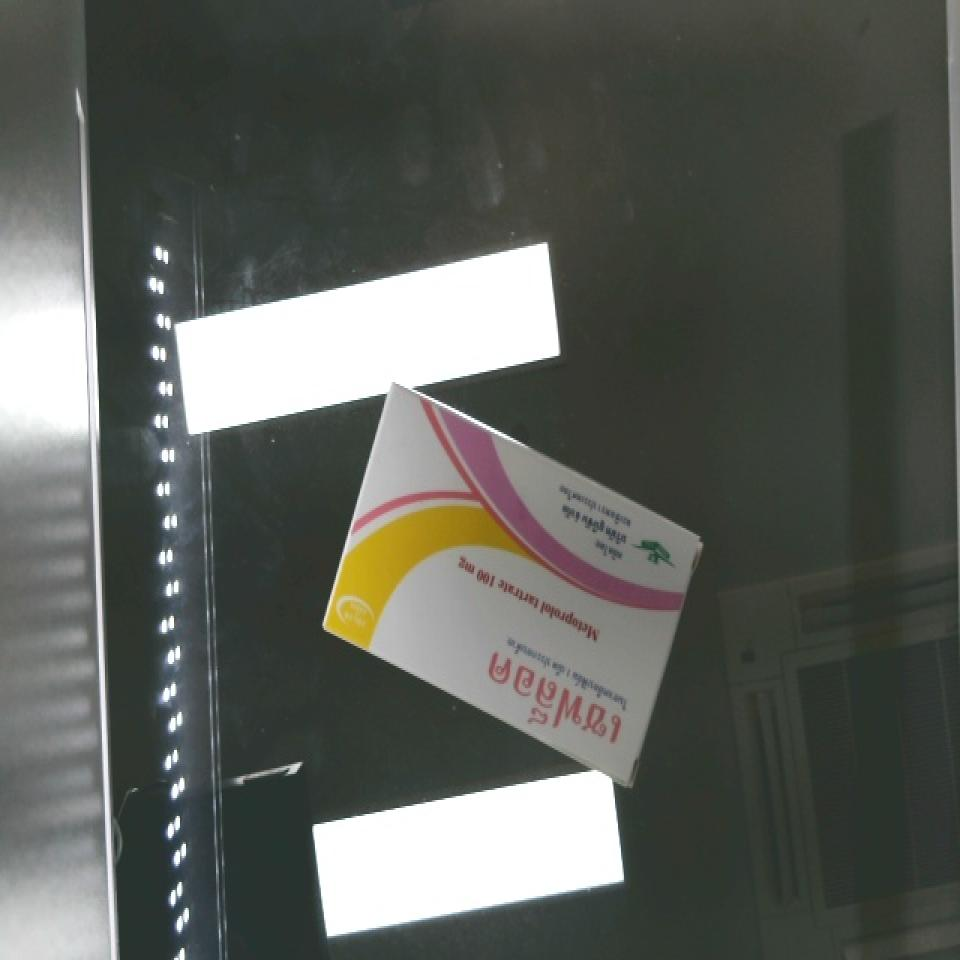medicine_box: (277, 383, 742, 788)
medicine_label_obb: (459, 632, 652, 779)
